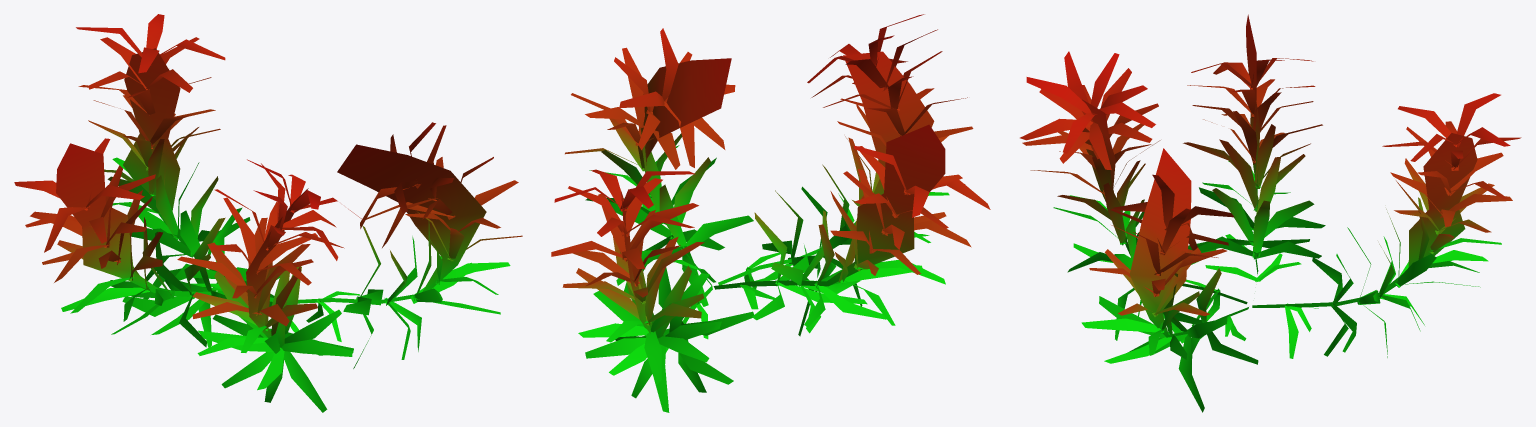
File: Var4_LOD5.fbx
The picture shows the model from 3 angles, left to right: view 1: azimuth 30°, elevation 25°; view 2: azimuth 150°, elevation 25°; view 3: azimuth 270°, elevation 25°; orthographic projection. The views are drawn at different scales.
Parts seen in each view (by area): view 1: _v2im_Var4_LOD5; view 2: _v2im_Var4_LOD5; view 3: _v2im_Var4_LOD5.
Part boxes in pixels (bbox=[...]): _v2im_Var4_LOD5: bbox=[14, 14, 522, 412]; _v2im_Var4_LOD5: bbox=[551, 14, 990, 412]; _v2im_Var4_LOD5: bbox=[1020, 14, 1521, 412].
Bounding box in the file's own units: 25.22 × 15.66 × 26.55.
